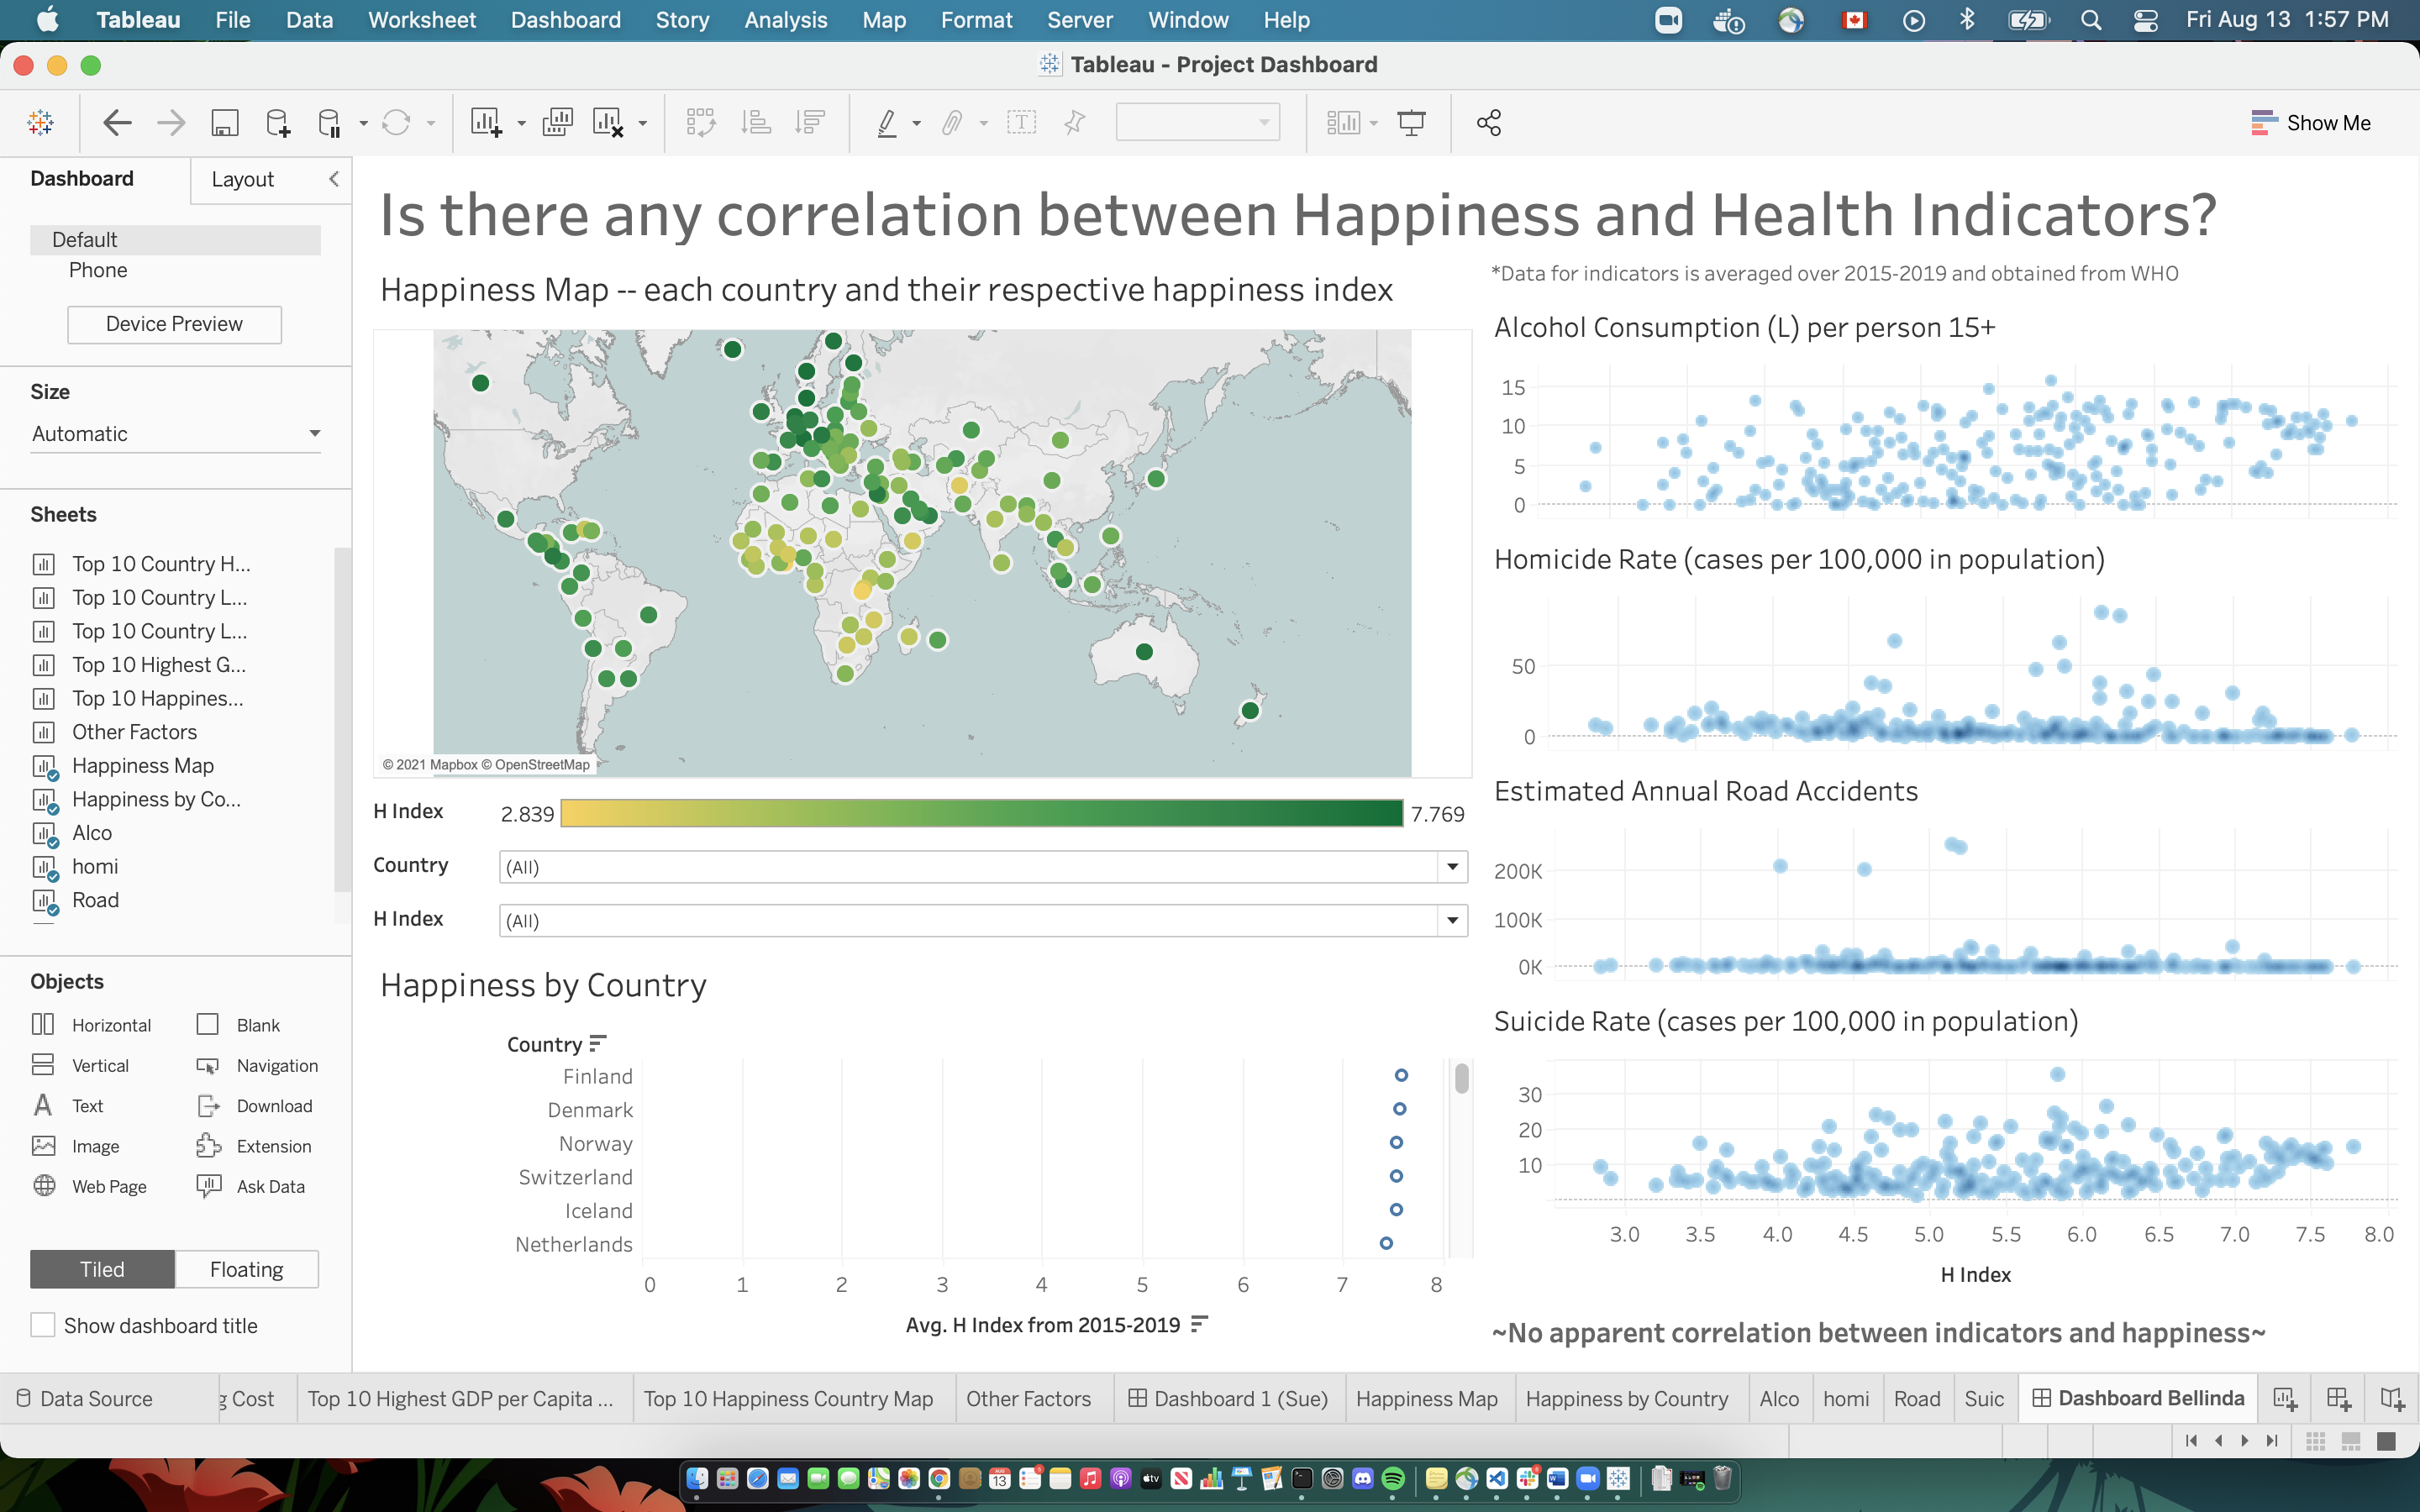

What the dashboard file says about the page in this screenshot:
{"tool":"tableau","page":{"name":"Dashboard Bellinda","canvas":[1000,1000],"units":"permille","ordinal":1},"visuals":[{"type":"text","box":[6.5,11.1,987,67.8]},{"type":"worksheet","title":"Happiness Map","mark":"Automatic","box":[6.5,78.8,539.5,439.8]},{"type":"text","box":[546,78.8,447.5,41.5]},{"type":"text","box":[546,120.3,447.5,34.6]},{"type":"worksheet","title":"Alco","mark":"Heatmap","rows":["alco"],"cols":["h_index"],"box":[546,154.9,447.5,190.9]},{"type":"worksheet","title":"homi","mark":"Heatmap","rows":["homi"],"cols":["h_index"],"box":[546,345.8,447.5,190.9]},{"type":"legend","title":"Happiness Map","param":"[federated.1qrxnaq1qokbcp10y5vx0109qy1u].[none:h_index:qk]","box":[6.5,518.7,539.5,44.3]},{"type":"worksheet","title":"Road","mark":"Heatmap","rows":["road"],"cols":["h_index"],"box":[546,536.7,447.5,189.5]},{"type":"filter","title":"Happiness by Country","param":"[federated.1qrxnaq1qokbcp10y5vx0109qy1u].[none:country:nk]","box":[6.5,562.9,539.5,44.3]},{"type":"filter","title":"Happiness by Country","param":"[federated.1qrxnaq1qokbcp10y5vx0109qy1u].[Hap]","box":[6.5,607.2,539.5,44.3]},{"type":"worksheet","title":"Happiness by Country","mark":"Shape","rows":["country"],"cols":["h_index"],"box":[6.5,651.5,539.5,337.5]},{"type":"worksheet","title":"Suic","mark":"Heatmap","rows":["suic"],"cols":["h_index"],"box":[546,726.1,447.5,262.8]}]}

Visuals, with their boxes on the dashboard's canvas, which has no fixed pixel size, in thousandths of its width and height (x1, y1, x2, y2). These are canvas units, not pixel positions in the 2420x1512 screenshot, which may show the page scaled, cropped or inside an application window:
text: box(6, 11, 994, 79)
"Happiness Map" worksheet: box(6, 79, 546, 519)
text: box(546, 79, 994, 120)
text: box(546, 120, 994, 155)
"Alco" worksheet (Heatmap marks): box(546, 155, 994, 346)
"homi" worksheet (Heatmap marks): box(546, 346, 994, 537)
"Happiness Map" legend: box(6, 519, 546, 563)
"Road" worksheet (Heatmap marks): box(546, 537, 994, 726)
"Happiness by Country" filter: box(6, 563, 546, 607)
"Happiness by Country" filter: box(6, 607, 546, 652)
"Happiness by Country" worksheet (Shape marks): box(6, 652, 546, 989)
"Suic" worksheet (Heatmap marks): box(546, 726, 994, 989)
